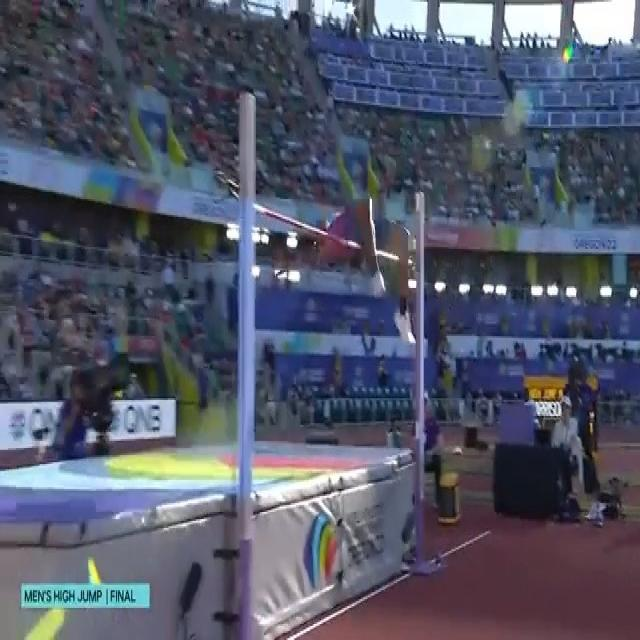land: (306, 198, 416, 346)
